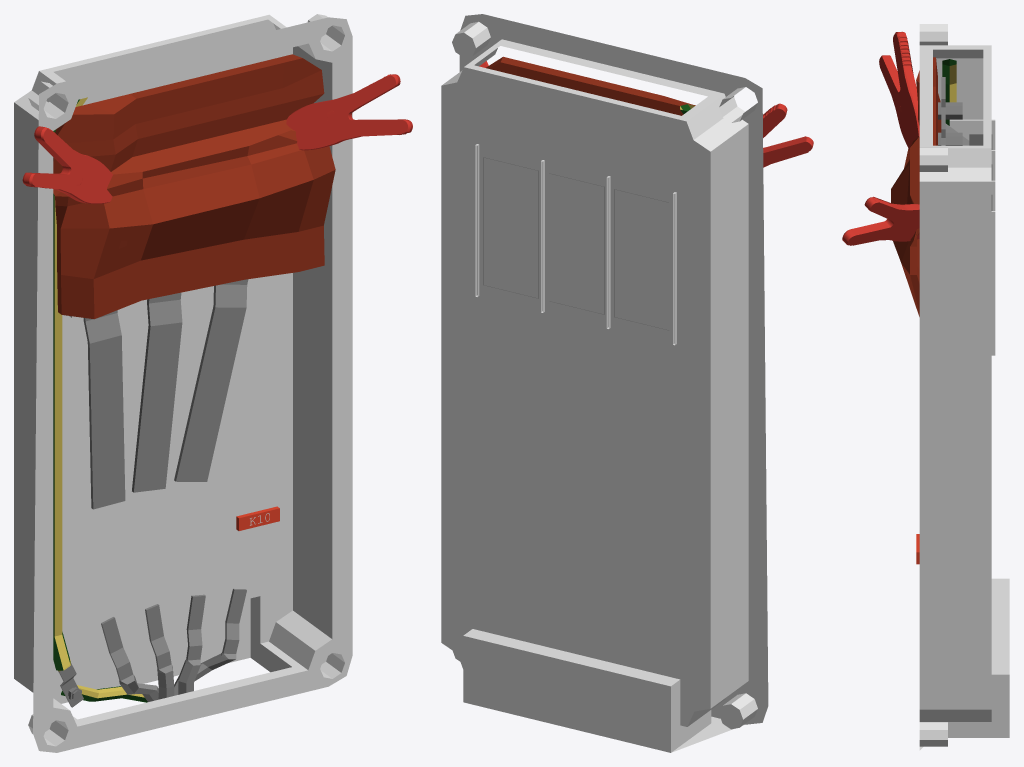
The model's file is Main-Distributor-V001-12-with-blanket.fbx.
3 views of the same model, side by side, from view 1: azimuth 30°, elevation 25°; view 2: azimuth 150°, elevation 25°; view 3: azimuth 270°, elevation 25° (orthographic). The views are drawn at different scales.
Visible parts, largest first — view 1: 000-box, Safety-blanket, 07-cables, 007-box.001, tagname.K10; view 2: 000-box, Safety-blanket; view 3: 000-box, Safety-blanket.
Part boxes in pixels (x1,y1,x2,y2): 000-box: [14, 14, 352, 752]; Safety-blanket: [22, 54, 412, 319]; 07-cables: [101, 588, 246, 701]; 007-box.001: [61, 685, 147, 702]; tagname.K10: [236, 506, 279, 530]; 000-box: [441, 14, 768, 752]; Safety-blanket: [479, 56, 813, 167]; 000-box: [919, 24, 1009, 750]; Safety-blanket: [842, 31, 941, 316].
Size of the model in its own units: 231 by 404 by 99.08.
